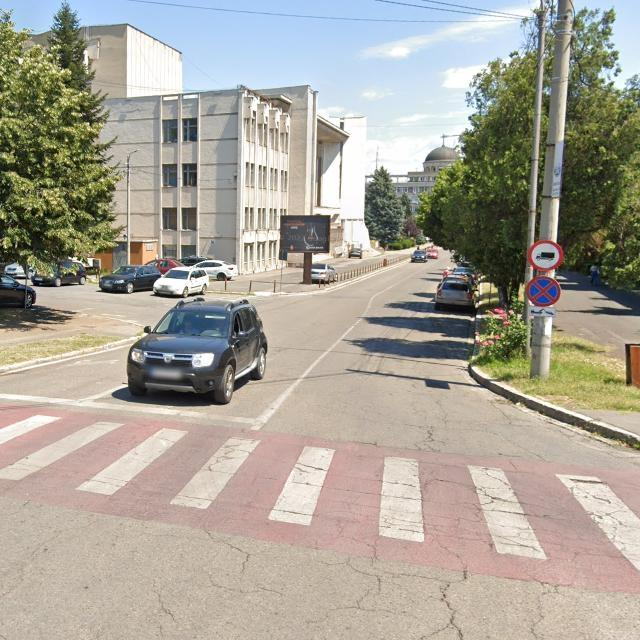forb_waiting: (526, 276, 561, 308)
